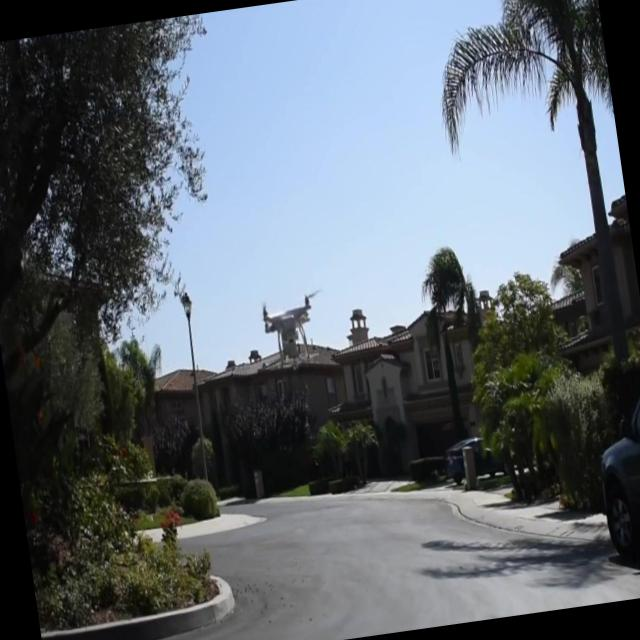drone: (258, 291, 324, 368)
